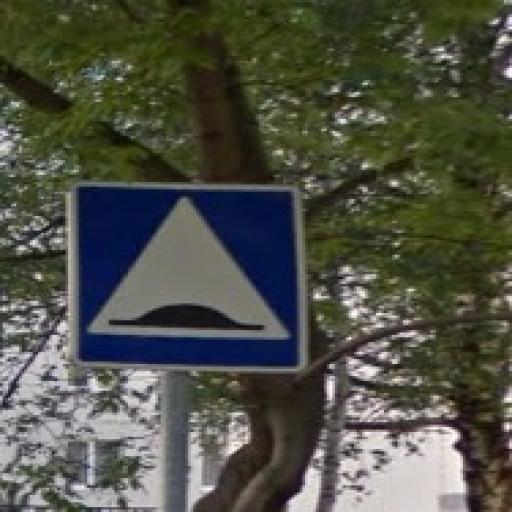traffic_sign: (67, 181, 315, 377)
